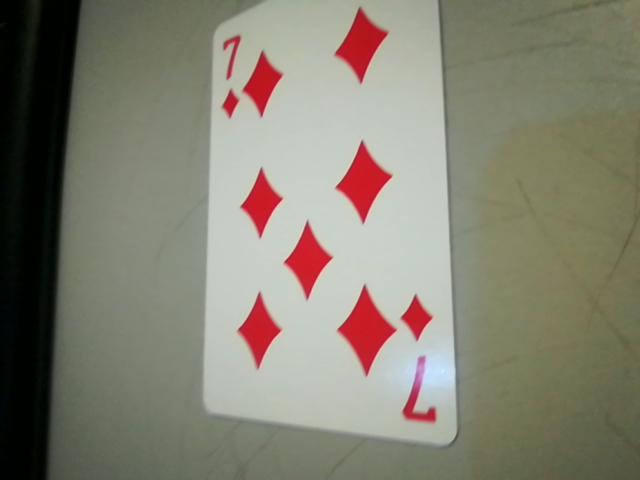fk 7: (395, 287, 450, 438)
